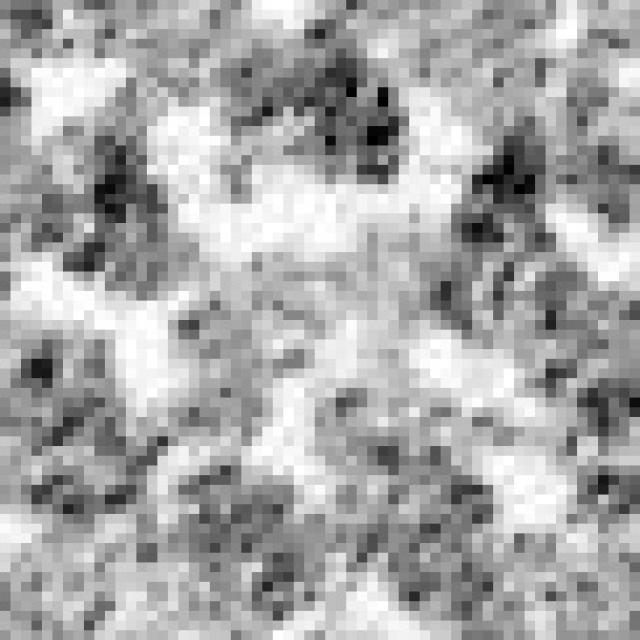inner: (159, 241, 371, 446)
lobe: (324, 381, 495, 623), (429, 142, 592, 355), (132, 456, 329, 629), (4, 325, 163, 534), (216, 27, 410, 192), (32, 139, 200, 291)
outer: (0, 0, 640, 640)
